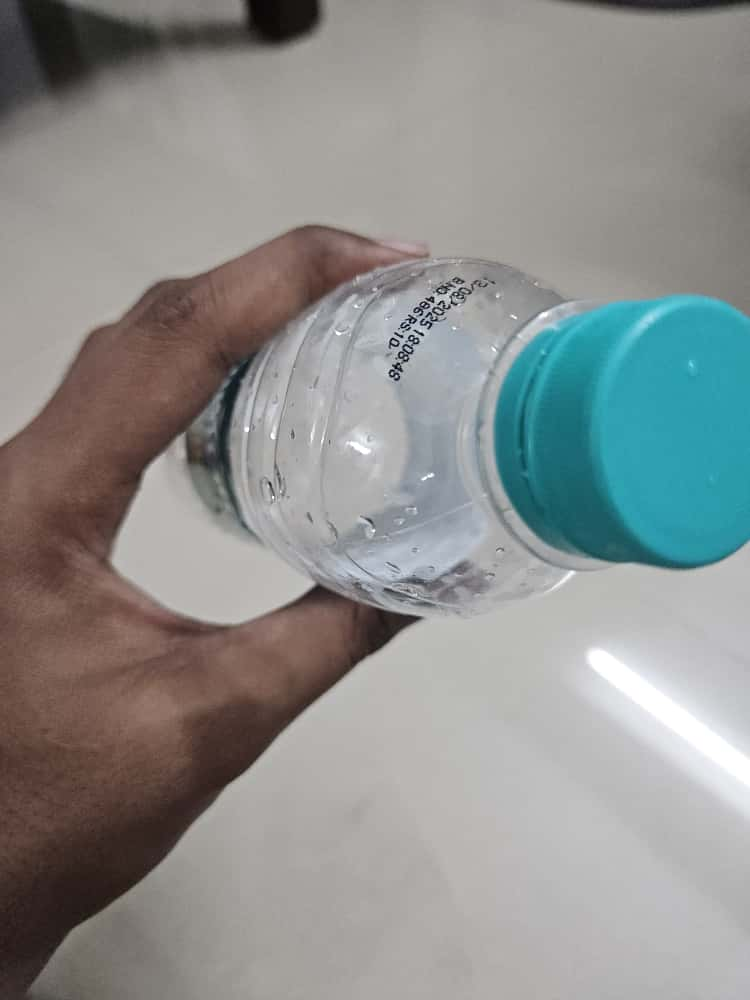dry: (148, 235, 749, 692)
